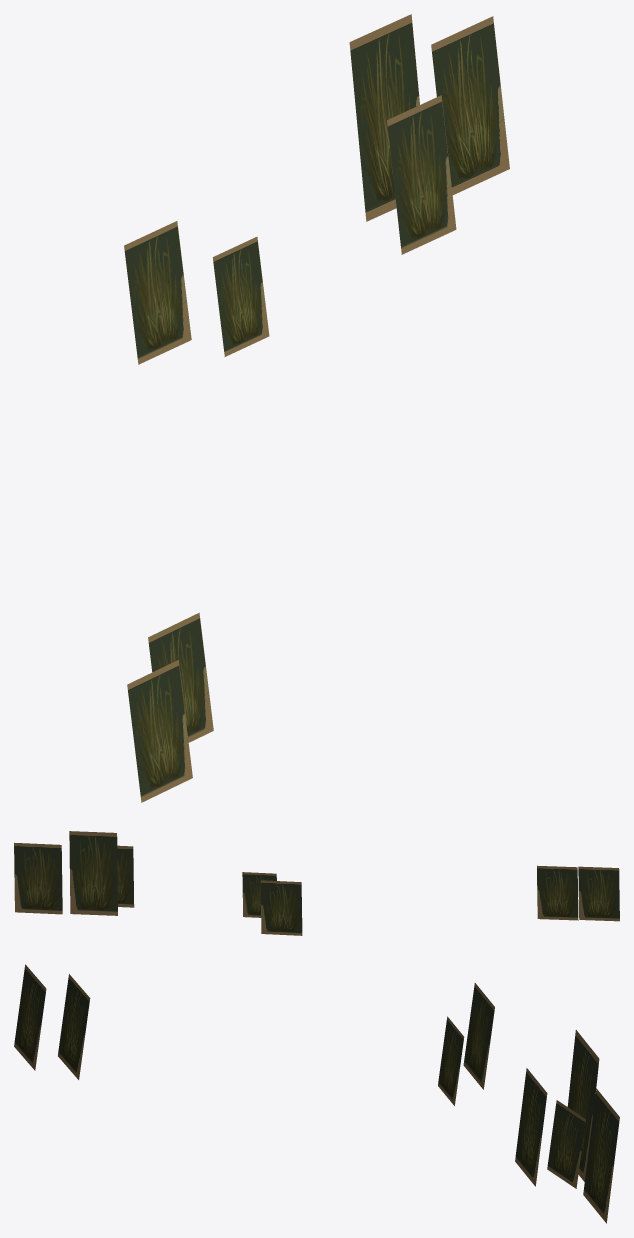
File: object_grass_polys10.fbx
3 views of the same model, one above another, from view 1: azimuth 30°, elevation 25°; view 2: azimuth 150°, elevation 25°; view 3: azimuth 270°, elevation 25° (orthographic). The views are drawn at different scales.
Visible parts, largest first — view 1: Material_#238683980/town_grass_mat; view 2: Material_#238683980/town_grass_mat; view 3: Material_#238683980/town_grass_mat.
Part boxes in pixels (x1,y1,x2,y2): Material_#238683980/town_grass_mat: (124, 14, 509, 802); Material_#238683980/town_grass_mat: (14, 831, 619, 935); Material_#238683980/town_grass_mat: (14, 964, 619, 1223).
Size of the model in its own units: 12.33 by 4.78 by 11.55.
